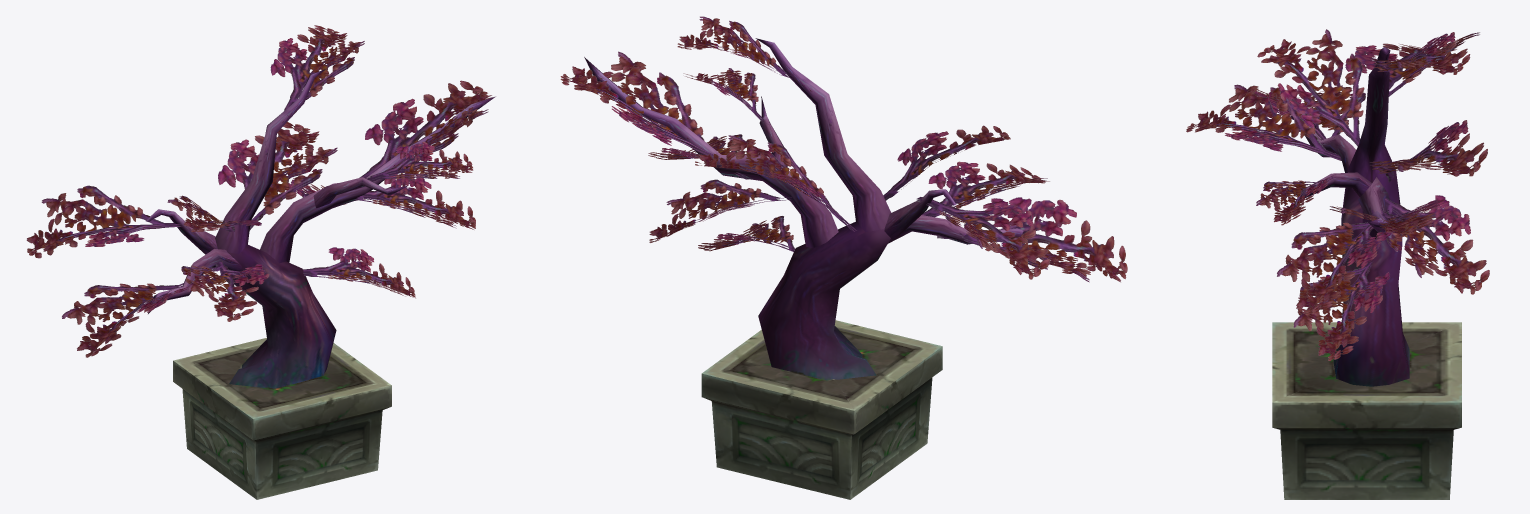
File: penzai_Forest_Z01.FBX
3 views of the same model, side by side, from view 1: azimuth 30°, elevation 25°; view 2: azimuth 150°, elevation 25°; view 3: azimuth 270°, elevation 25° (orthographic). The views are drawn at different scales.
Parts seen in each view (by area): view 1: penzai_Forest_Z01; view 2: penzai_Forest_Z01; view 3: penzai_Forest_Z01.
Part boxes in pixels (x1,y1,x2,y2): penzai_Forest_Z01: [26, 25, 495, 499]; penzai_Forest_Z01: [560, 16, 1127, 499]; penzai_Forest_Z01: [1186, 29, 1489, 499].
Size of the model in its own units: 417 by 325 by 221.
